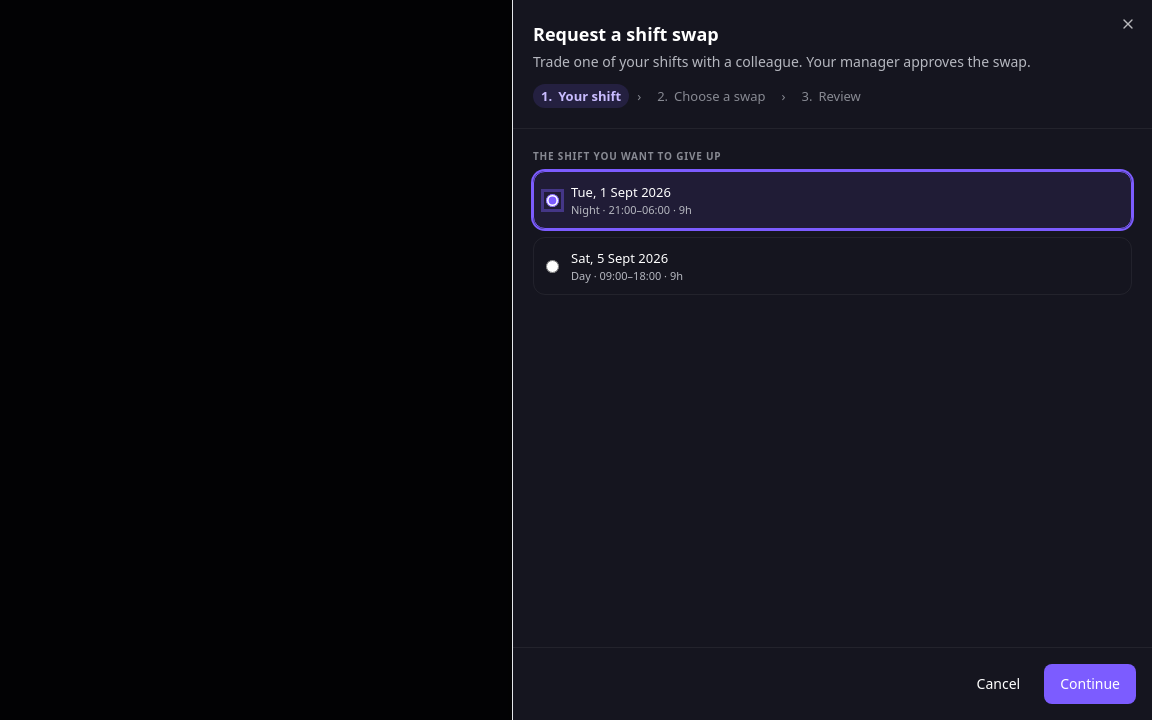
Test: SwapRequestDrawer › surfaces a candidate-search failure without losing the drawer
This screenshot has width=1152, height=720.
What coordinates should you click on to do the following:
click the button "Continue"
I would click on:
 (1090, 684)
Its box is [1044,664,1136,704].
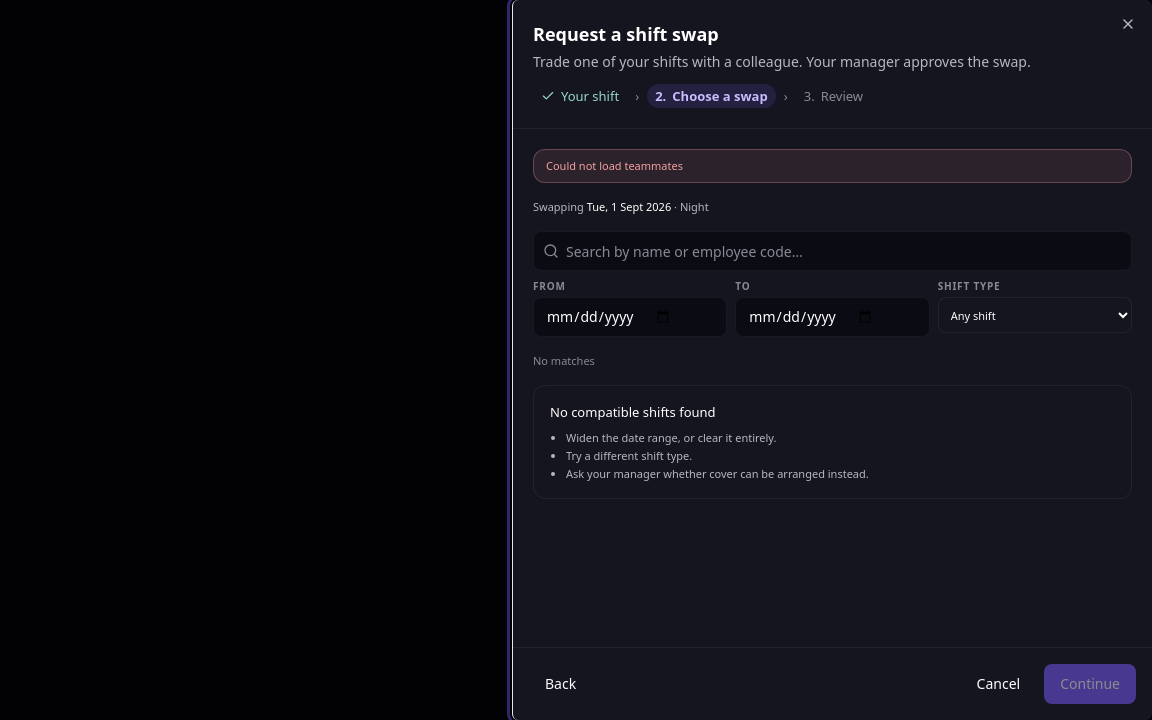
Expected: the button "Cancel" is shown, [961,664,1036,704]
Expected: the message reads "Could not load teammates", [546,158,683,173]
